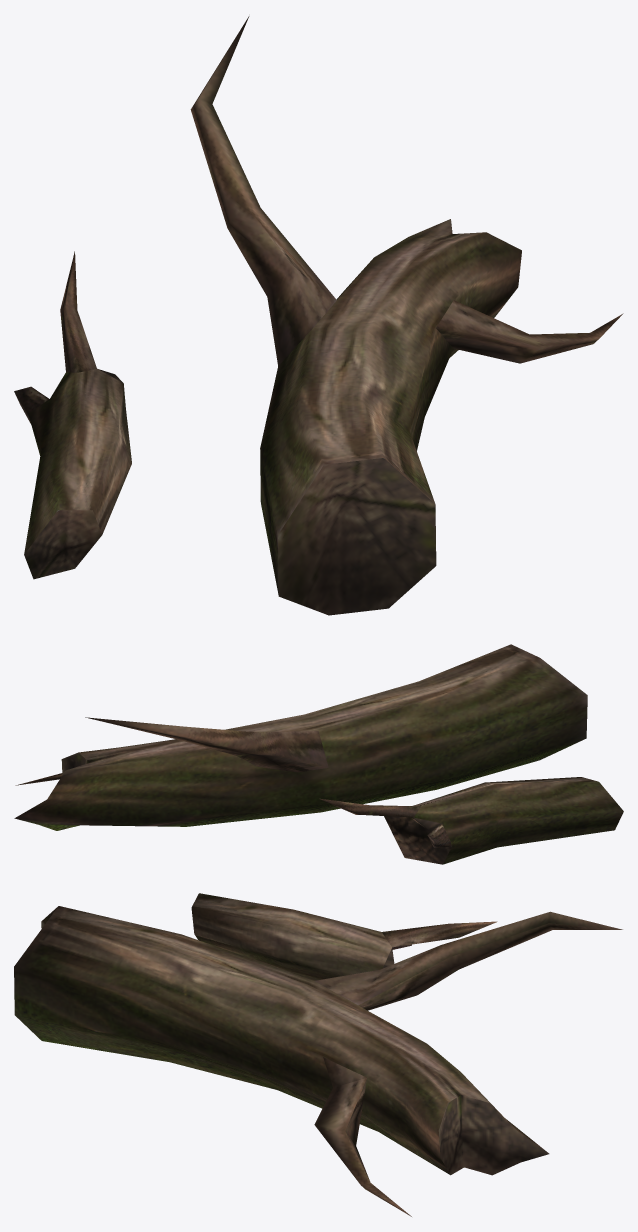
Rendered from Tree04.FBX.
3 renders of one model, top to bottom at view 1: azimuth 30°, elevation 25°; view 2: azimuth 150°, elevation 25°; view 3: azimuth 270°, elevation 25°, orthographic. The views are drawn at different scales.
Parts seen in each view (by area): view 1: Tree04 (×2); view 2: Tree04 (×2); view 3: Tree04 (×2).
Part boxes in pixels (<box>): Tree04 (×2): <box>14,16,623,615</box>; Tree04 (×2): <box>14,644,623,864</box>; Tree04 (×2): <box>14,893,622,1216</box>.
Bounding box in the file's own units: 678 × 228 × 627.
